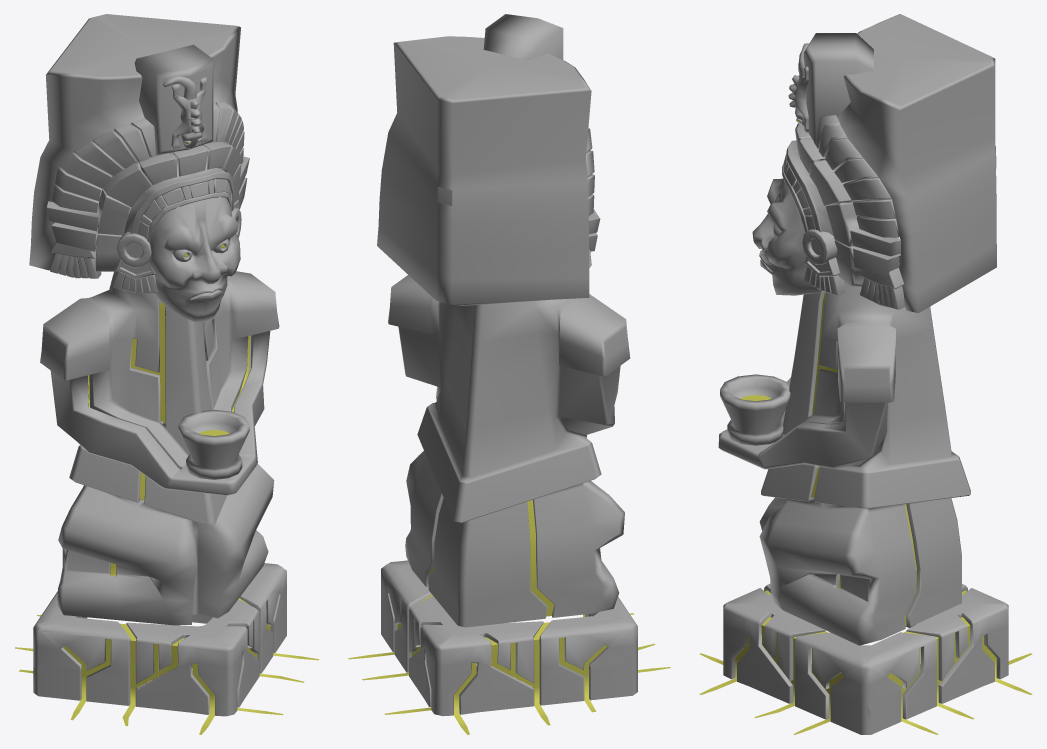
File: StoneFace.fbx
The picture shows the model from 3 angles, left to right: view 1: azimuth 30°, elevation 25°; view 2: azimuth 150°, elevation 25°; view 3: azimuth 270°, elevation 25°; orthographic projection.
Visible parts, largest first — view 1: mBodyMain, mCrown, mSocket, mFace, mHeadAdrnment, mLeylineBody, mBowl, mLizard, pCube4, pCube5, mEar2; view 2: mBodyMain, mCrown, mSocket, mLeylineBody, mHeadAdrnment; view 3: mBodyMain, mCrown, mSocket, mHeadAdrnment, mFace, mBowl, mLeylineBody, pCube4, pCube5, mLizard, mEar2.
Part boxes in pixels (x1,y1,x2,y2): mBodyMain: (40, 271, 279, 625); mCrown: (29, 14, 249, 271); mSocket: (33, 563, 286, 716); mFace: (149, 196, 240, 321); mHeadAdrnment: (134, 44, 213, 155); mLeylineBody: (15, 301, 319, 734); mBowl: (178, 409, 249, 479); mLizard: (162, 75, 207, 148); pCube4: (50, 241, 101, 278); pCube5: (113, 259, 158, 292); mEar2: (116, 232, 151, 267); mBodyMain: (388, 275, 630, 627); mCrown: (377, 36, 600, 305); mSocket: (381, 560, 637, 716); mLeylineBody: (348, 500, 670, 734); mHeadAdrnment: (483, 14, 563, 60); mBodyMain: (718, 253, 970, 645); mCrown: (782, 14, 996, 313); mSocket: (723, 584, 1008, 734); mHeadAdrnment: (803, 33, 873, 144); mFace: (752, 178, 821, 295); mBowl: (720, 374, 790, 445); mLeylineBody: (699, 292, 1032, 734); pCube4: (859, 268, 905, 309); pCube5: (803, 256, 845, 295); mLizard: (788, 43, 809, 132); mEar2: (802, 229, 837, 264).
Size of the model in its own units: 118 by 279 by 135.
